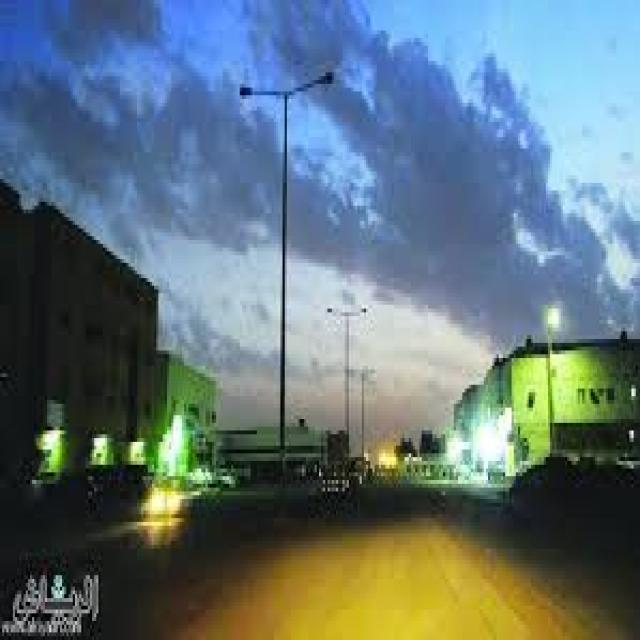Street Light: (238, 72, 334, 484), (325, 301, 366, 488)
